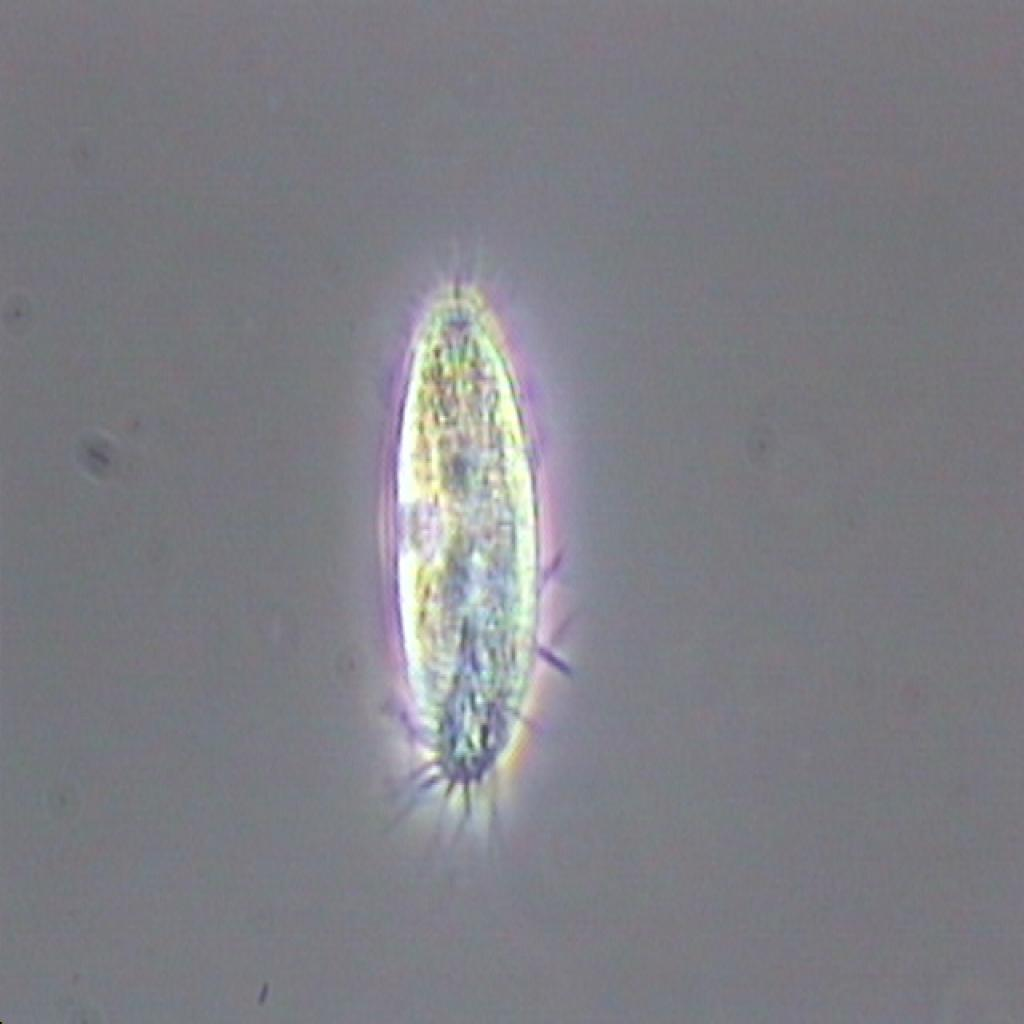Stylonychia: (361, 269, 593, 830)
